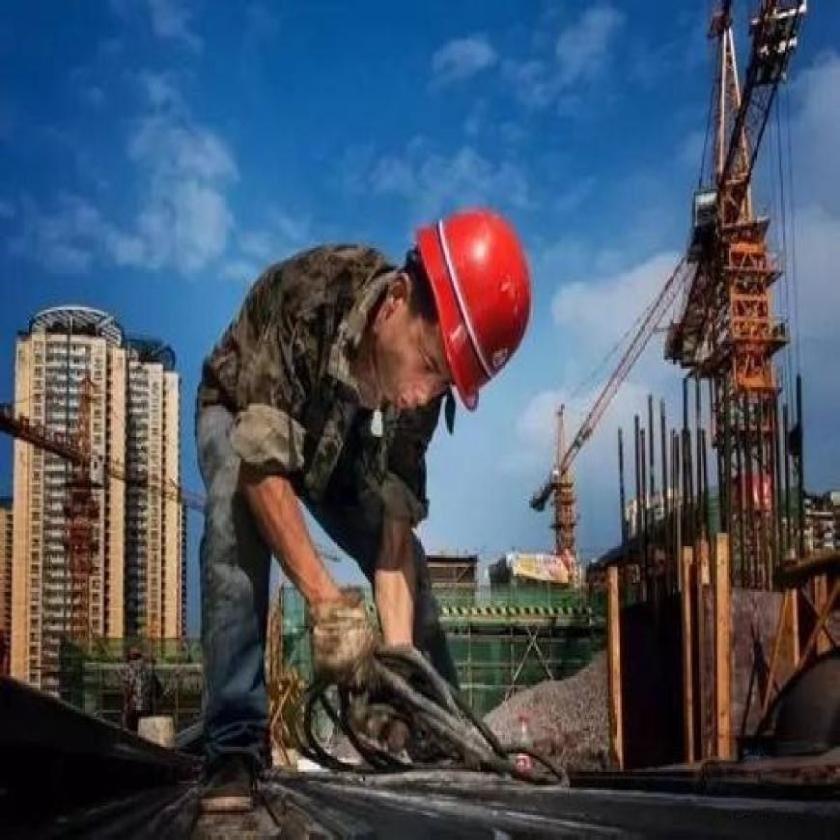Con_casco: (377, 197, 534, 439)
